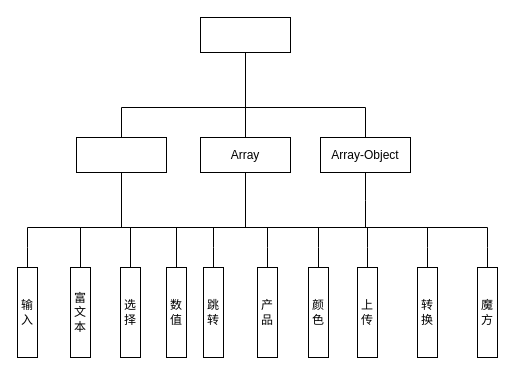
The diagram is 515 pixels wide and 375 high, and some of its shapes have lost their labels. Each missing label, with the centre of its shape:
"Object" belongs at [121,154].
"基础类型组件" belongs at [245,34].
